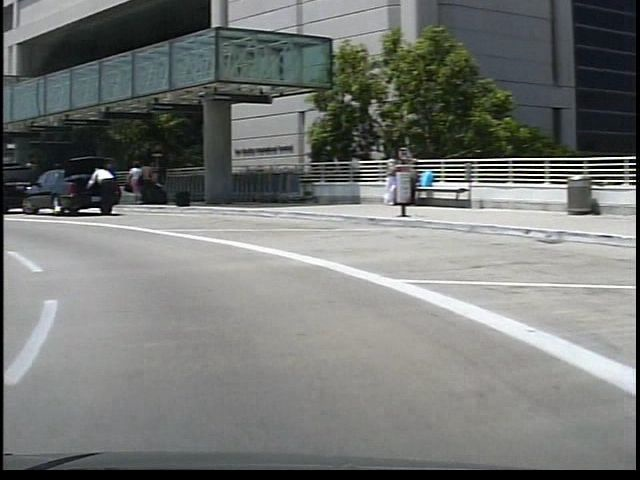person: (80, 166, 115, 220), (135, 157, 152, 208), (122, 162, 134, 202)
